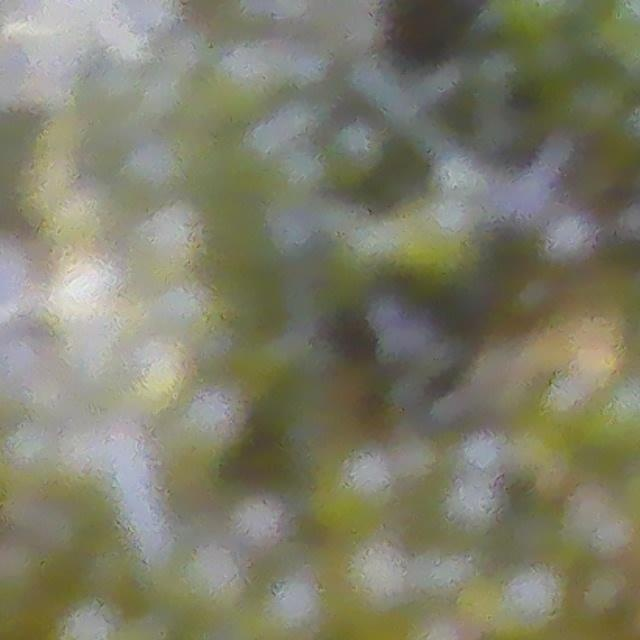SeaGrape: (44, 259, 115, 332)
